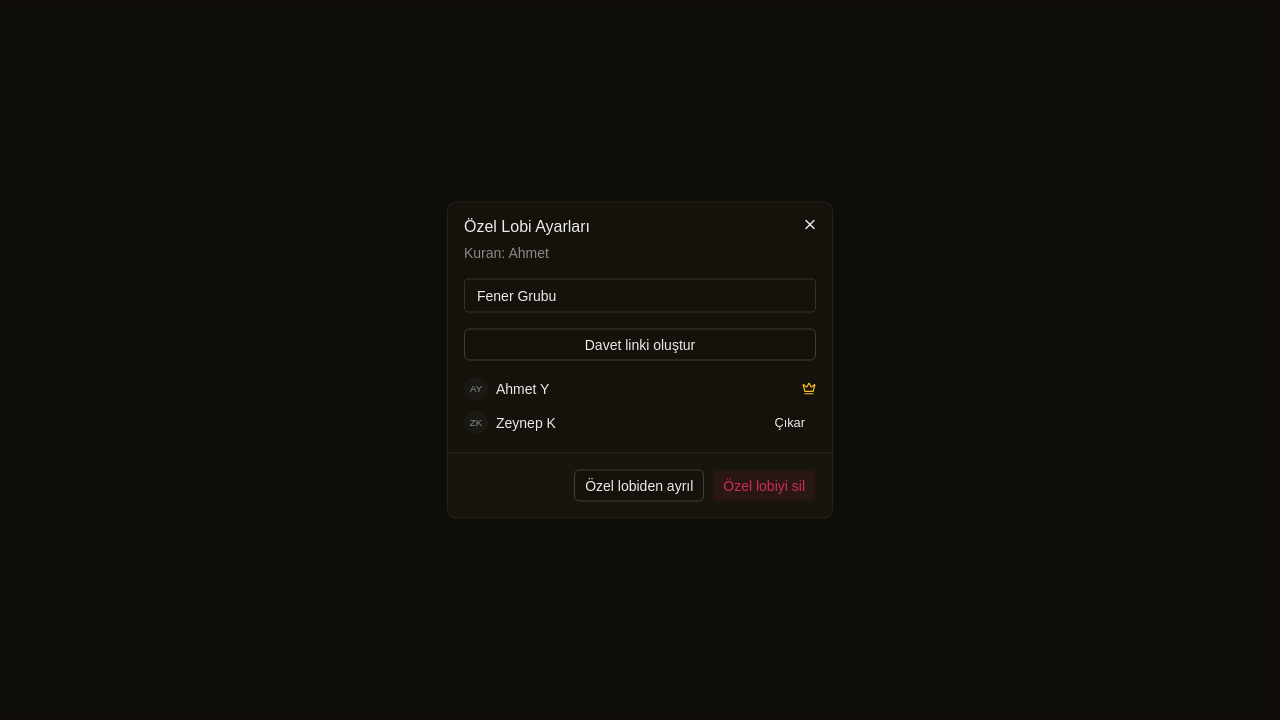
Test: LobbyManagementPanel › shows the invite link once generated
The width and height of the screenshot is (1280, 720).
Click the button "Davet linki oluştur": (640, 344) [464,328,816,360]
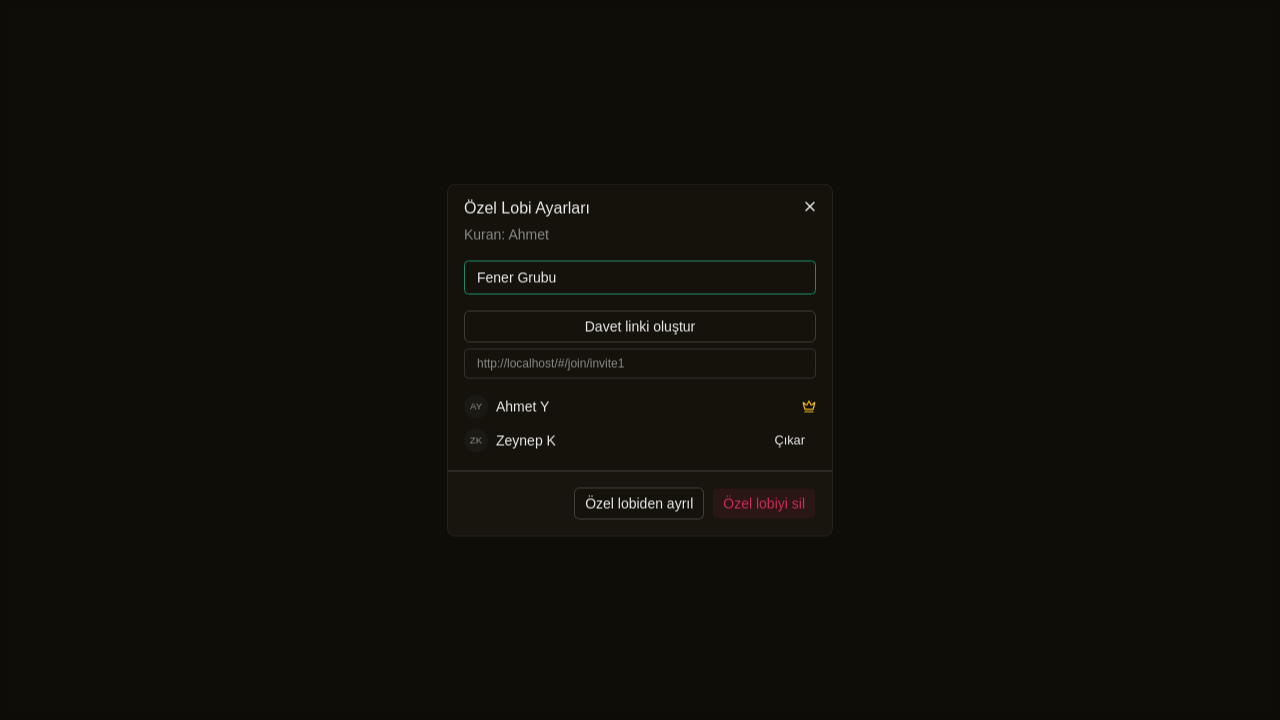
Result: the 2nd field showing "#/join/invite1" is shown at [464,348,816,378]
